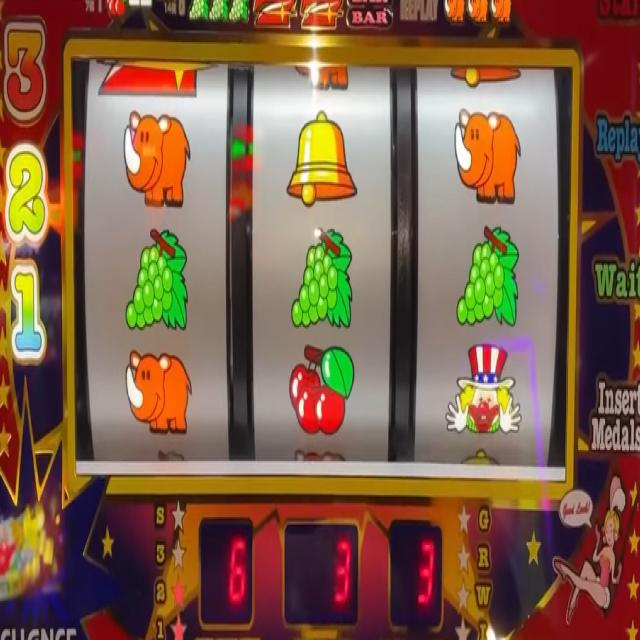bell: (286, 106, 358, 205), (448, 65, 522, 89)
cherry: (290, 346, 356, 433), (105, 0, 127, 16)
clown: (446, 342, 521, 440)
display: (68, 50, 567, 487)
elephant: (123, 106, 192, 208), (453, 108, 521, 205), (124, 349, 194, 436), (294, 60, 349, 96)
grape: (125, 227, 190, 336), (291, 223, 354, 334), (455, 225, 520, 328), (227, 0, 250, 27), (187, 0, 208, 24), (207, 0, 227, 24)
z: (95, 59, 217, 101), (348, 0, 393, 32), (301, 0, 344, 30), (252, 0, 297, 28)
